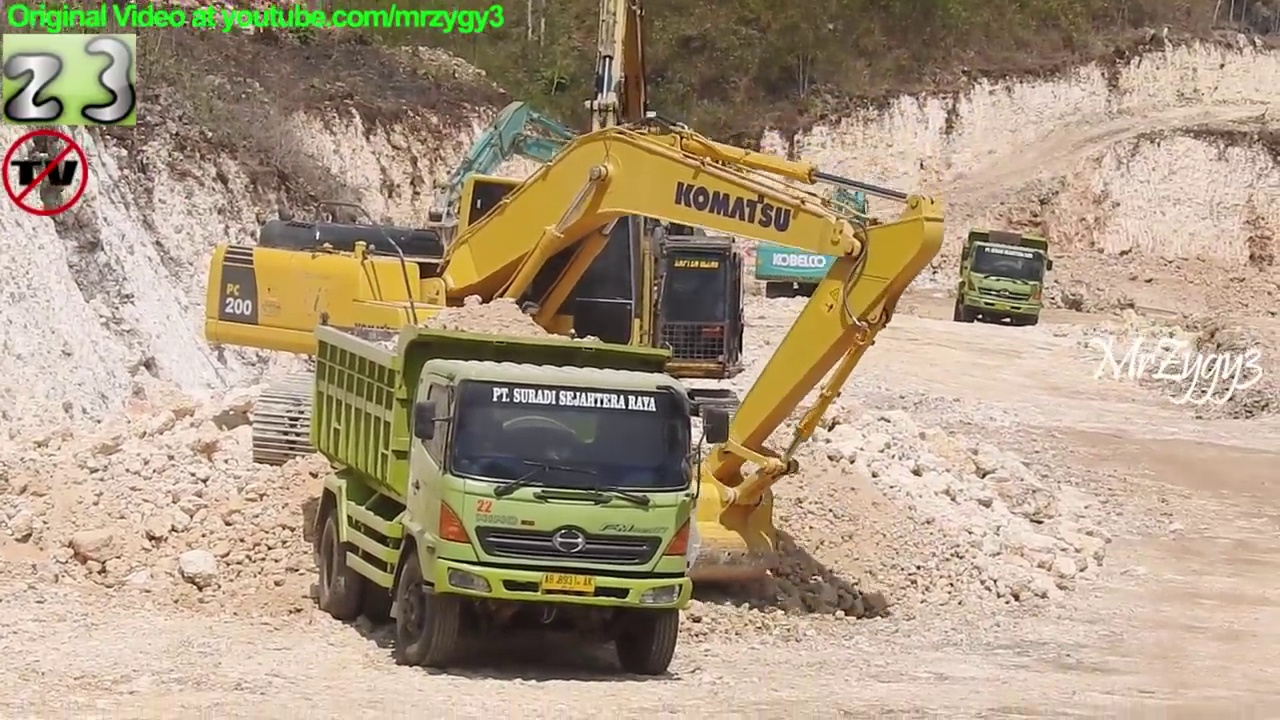excavator: (203, 124, 950, 589), (384, 1, 762, 461), (757, 161, 878, 298)
truck: (306, 321, 698, 682), (954, 224, 1057, 331)
